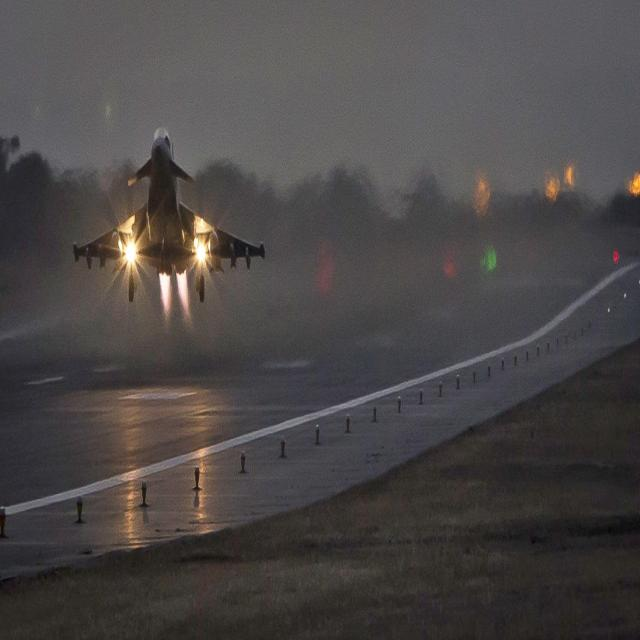MIL_Plane: (72, 127, 266, 302)
